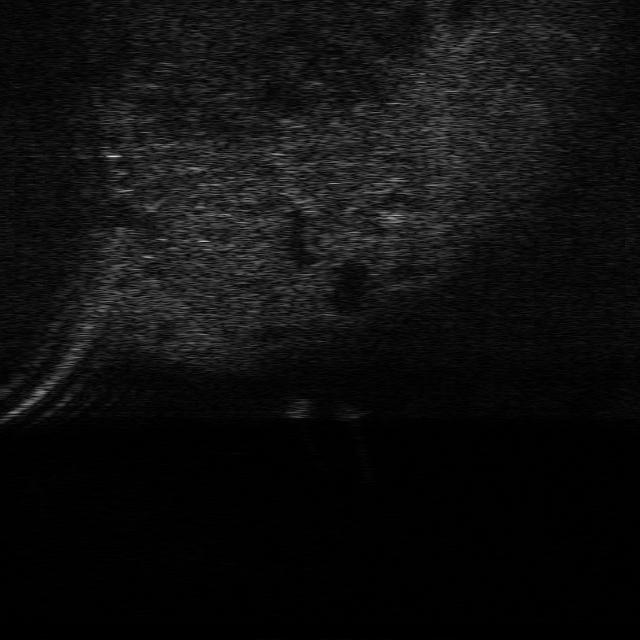cube: (332, 400, 368, 420)
cylinder: (285, 392, 313, 420)
